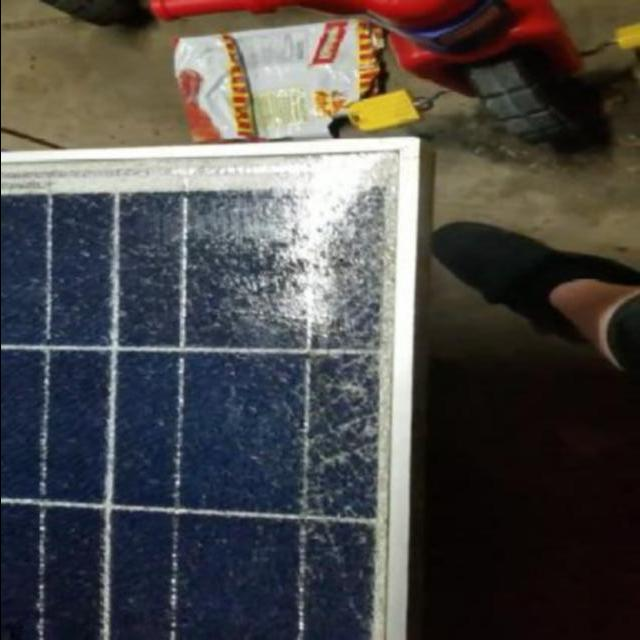cracked: (0, 164, 388, 634)
